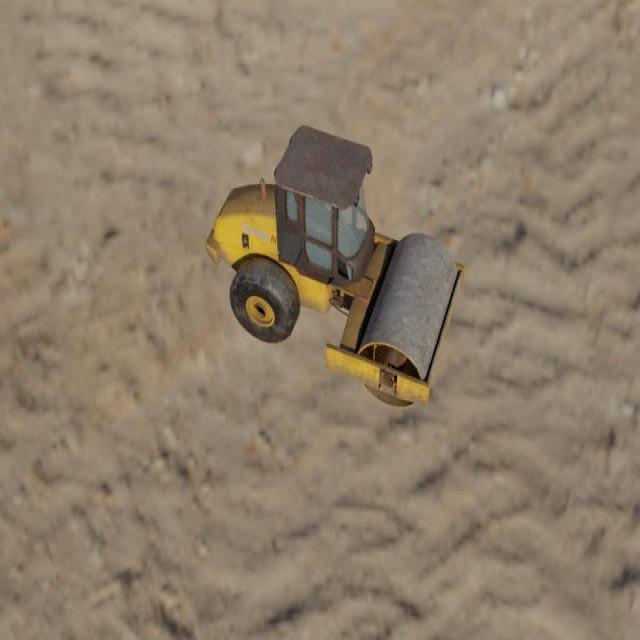Roller: (205, 124, 466, 408)
